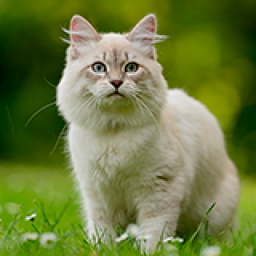cat: (54, 8, 248, 252)
